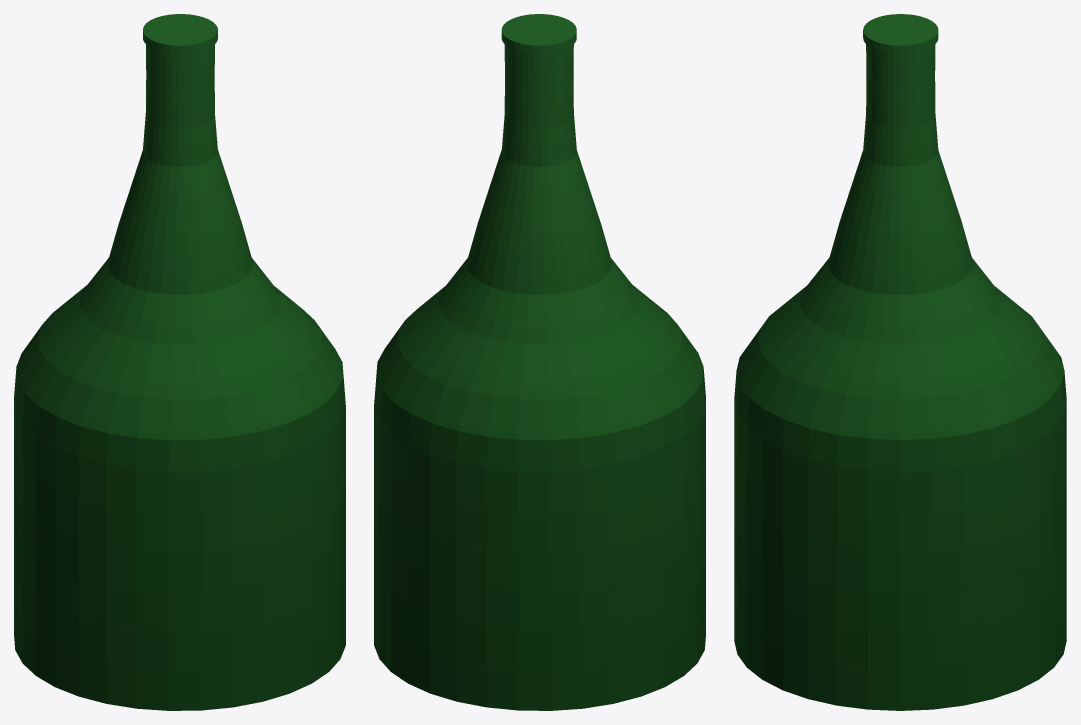
Rendered from NormalBottle1.fbx.
3 renders of one model, left to right at view 1: azimuth 30°, elevation 25°; view 2: azimuth 150°, elevation 25°; view 3: azimuth 270°, elevation 25°, orthographic.
Parts seen in each view (by area): view 1: NormalBottle1; view 2: NormalBottle1; view 3: NormalBottle1.
Boxes of the visible parts, bbox=[...] form: NormalBottle1: bbox=[14, 14, 345, 710]; NormalBottle1: bbox=[374, 14, 705, 710]; NormalBottle1: bbox=[734, 14, 1066, 710].
Size of the model in its own units: 50 by 101 by 50.
